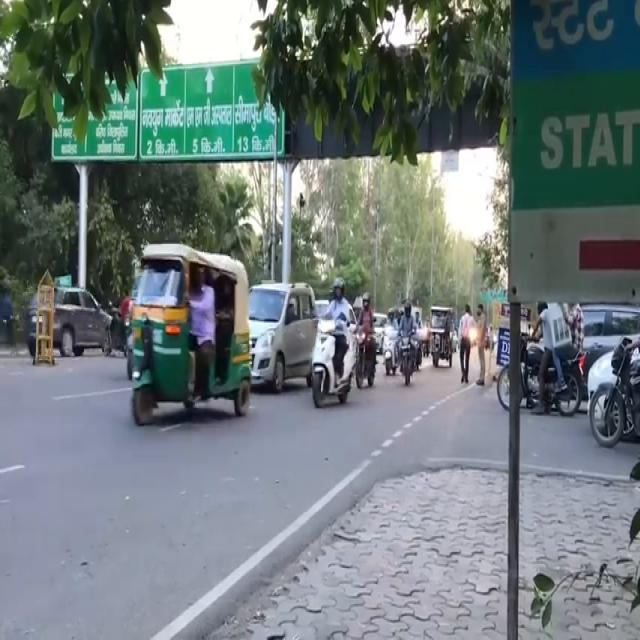MOTORCYCLE: (592, 334, 640, 449), (310, 318, 356, 409), (354, 321, 376, 393), (397, 332, 419, 385), (380, 325, 397, 372)
